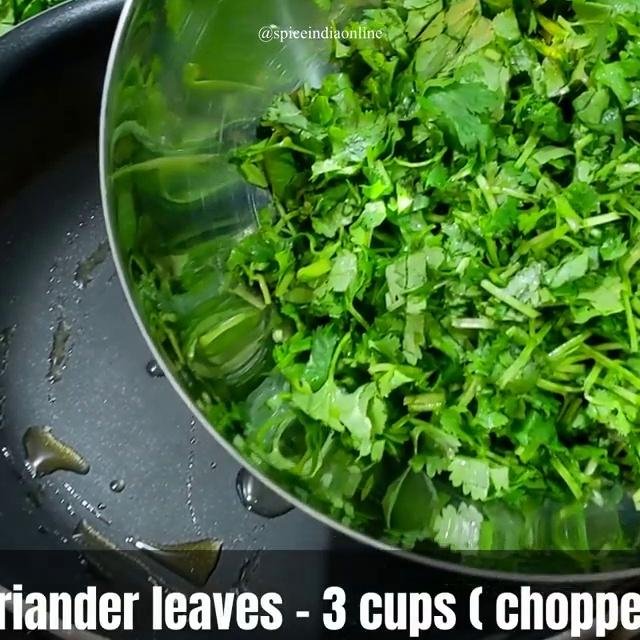cilantro: (286, 0, 640, 453)
